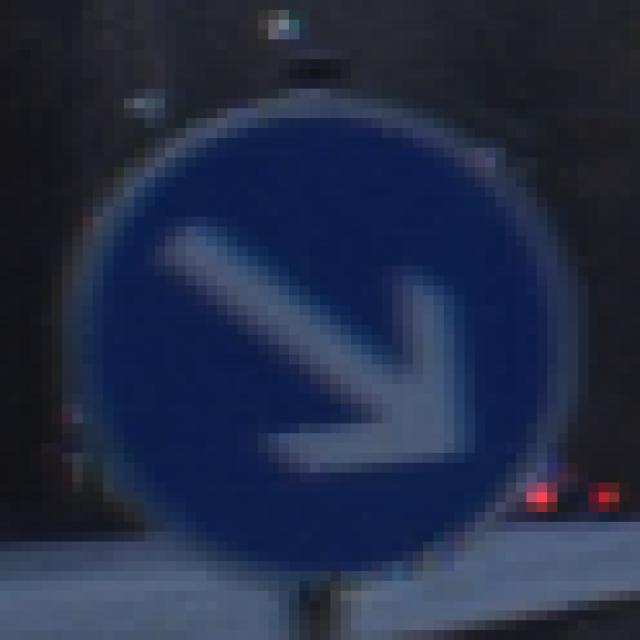compulsary keep right: (61, 92, 578, 591)
